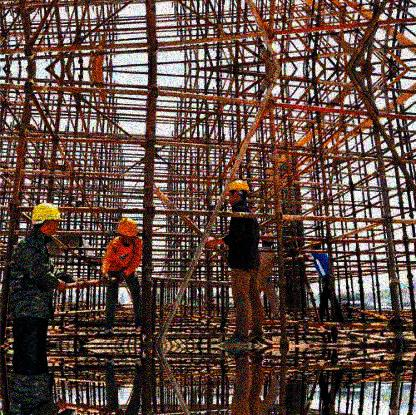helmet: (31, 203, 66, 237), (227, 177, 250, 207), (118, 218, 140, 244), (262, 231, 275, 248), (310, 241, 321, 252)
